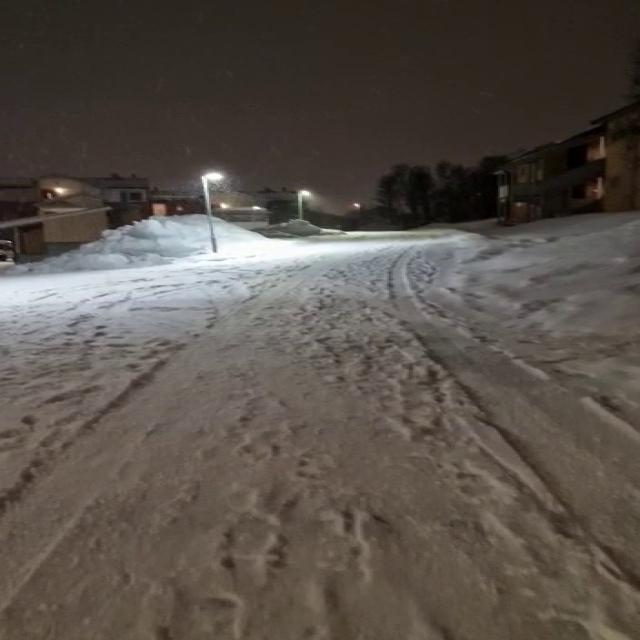path: (0, 235, 640, 640)
